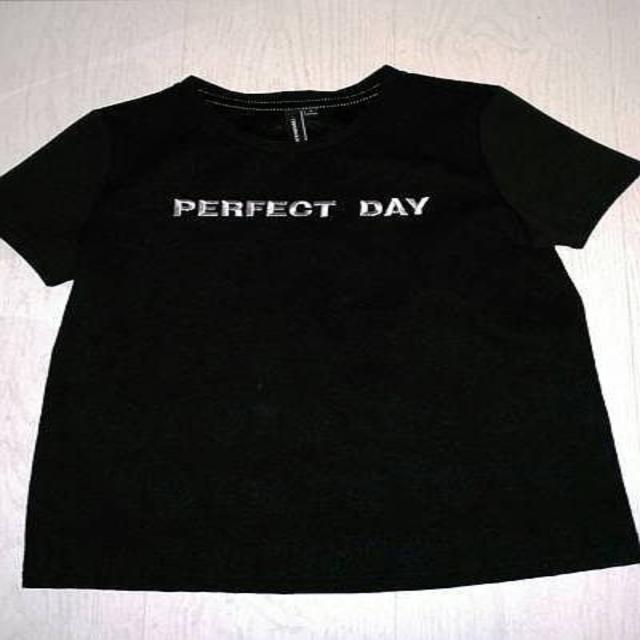T_SHIRT: (2, 64, 640, 610)
